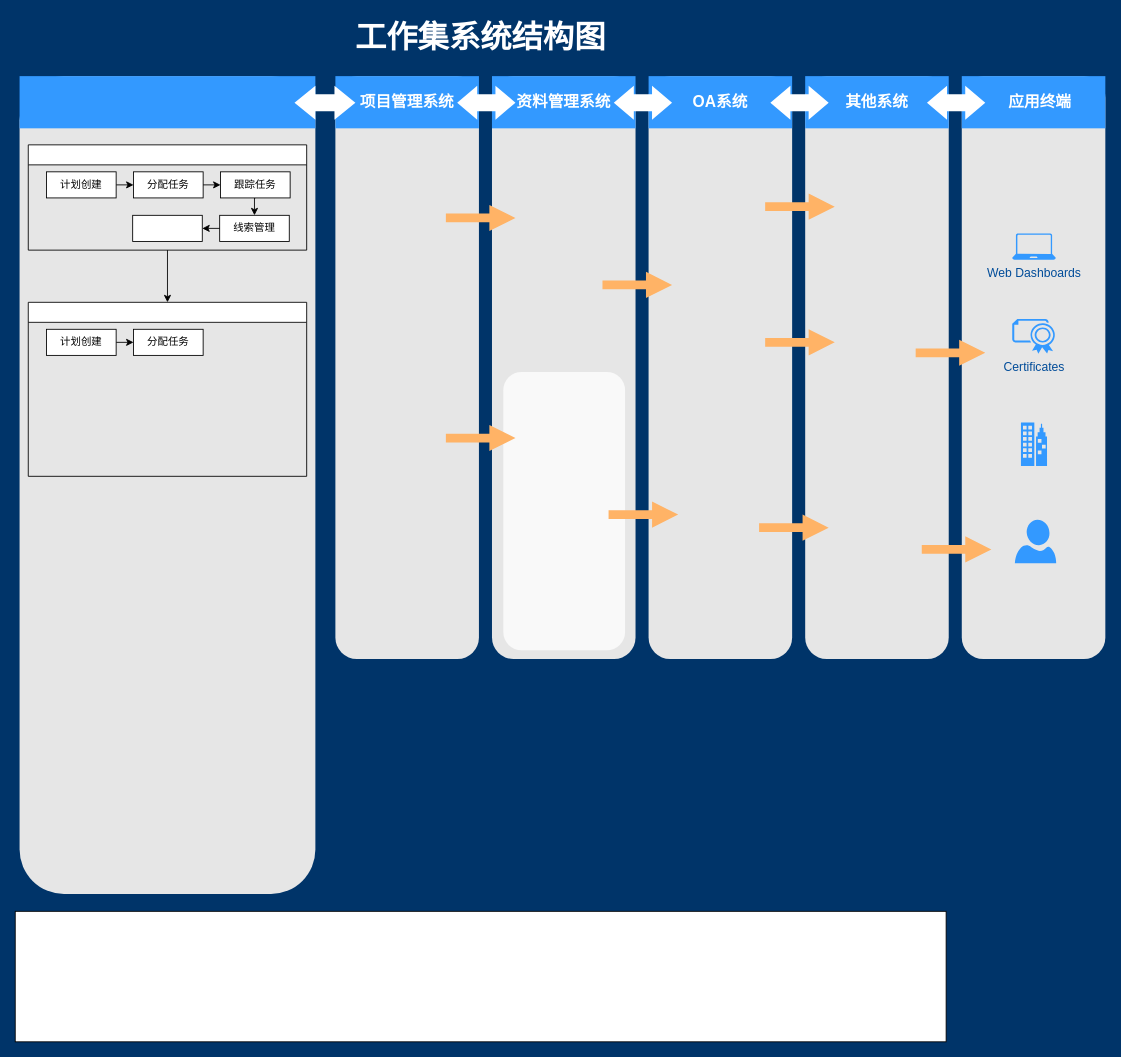
Some shapes in this 1121 by 1057 pixel diagram are drawn without their labels. The box of each missing label's shape, as (x1, y1, x2, y2) in pixels:
Data Management: (503, 371, 625, 650)
Enterprise Services: (1021, 422, 1047, 465)
Seminars: (1014, 519, 1056, 563)
任务计划: (27, 144, 307, 250)
客户管理: (27, 301, 307, 476)
客户管理系统: (19, 76, 315, 128)
数据统计: (132, 214, 202, 241)
